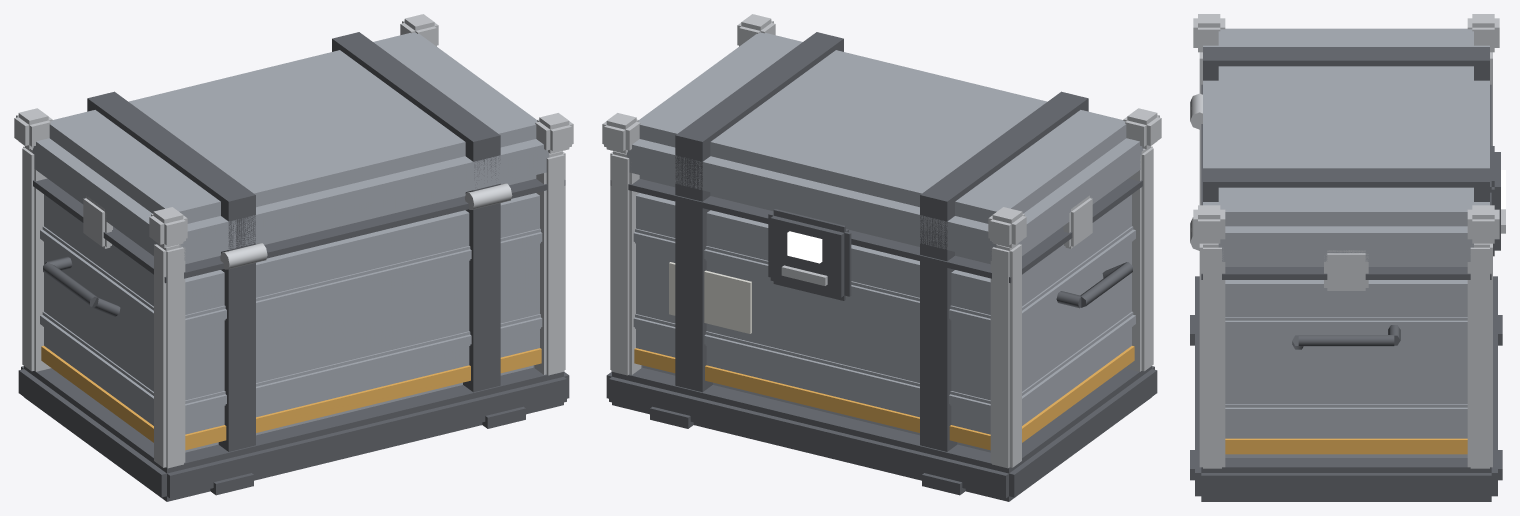
Rendered from storage_chest.fbx.
3 renders of one model, left to right at view 1: azimuth 30°, elevation 25°; view 2: azimuth 150°, elevation 25°; view 3: azimuth 270°, elevation 25°, orthographic.
Visible parts, largest first — view 1: storage_chest; view 2: storage_chest; view 3: storage_chest.
Part boxes in pixels (<box>): storage_chest: <box>14,14,573,501</box>; storage_chest: <box>602,14,1161,501</box>; storage_chest: <box>1190,14,1505,501</box>.
Size of the model in its own units: 1.67 by 1 by 0.99.
